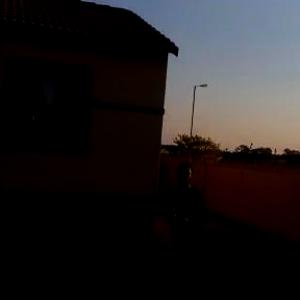follow: (152, 152, 213, 299)
